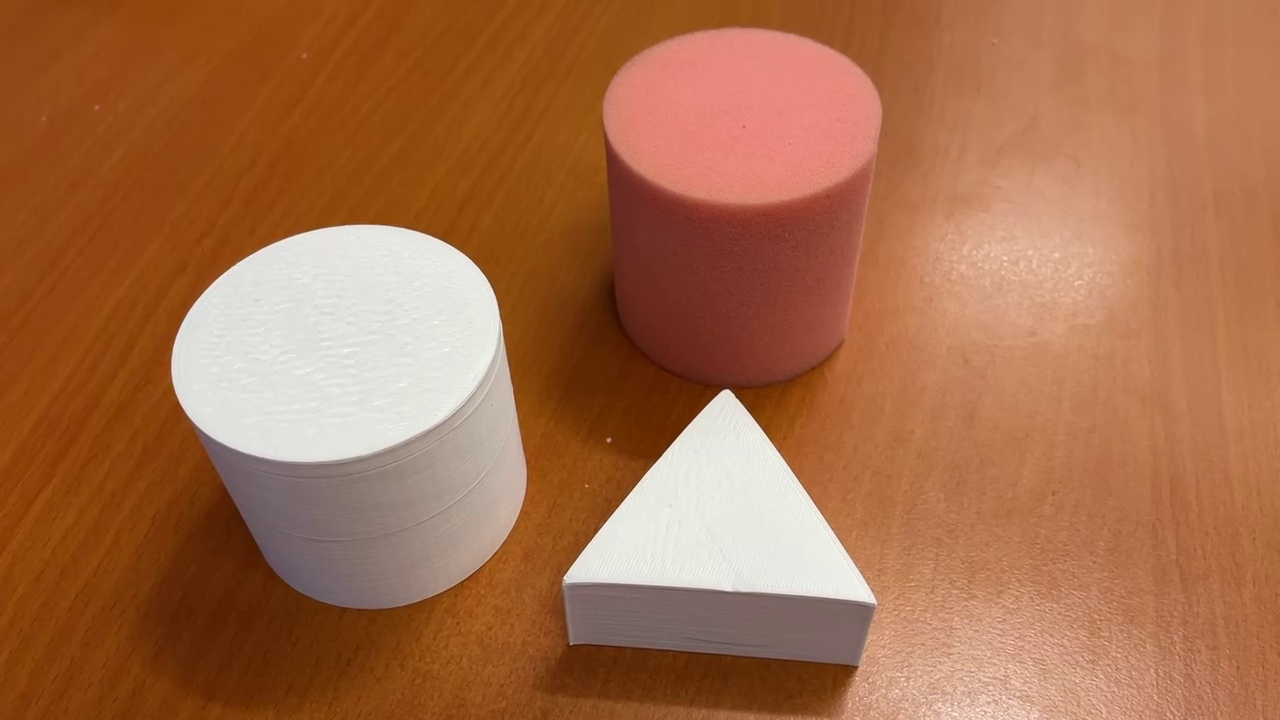Cylinder: (162, 214, 538, 621), (597, 22, 884, 396)
Triangle_short: (557, 388, 878, 686)
